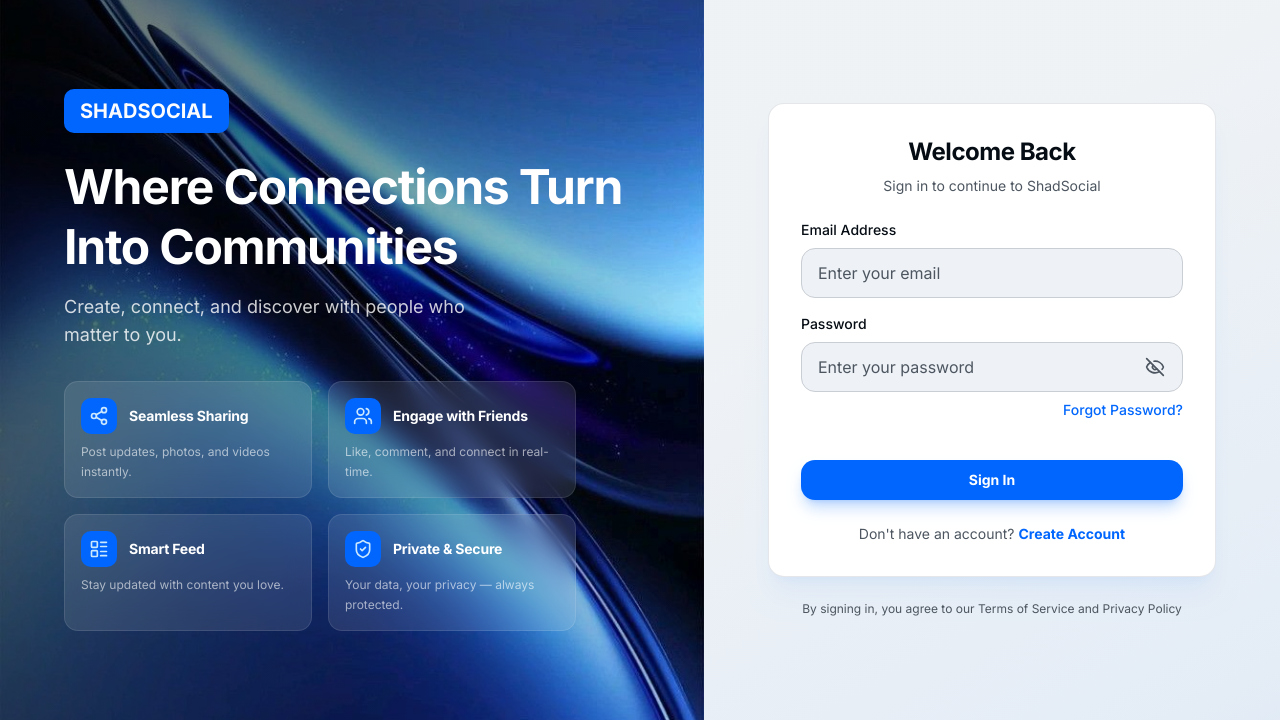
Test case: Login Flow › should toggle password visibility
# Type password
Type "password123" into the password field named "password" at coordinates (992, 367), box [801,342,1183,392]
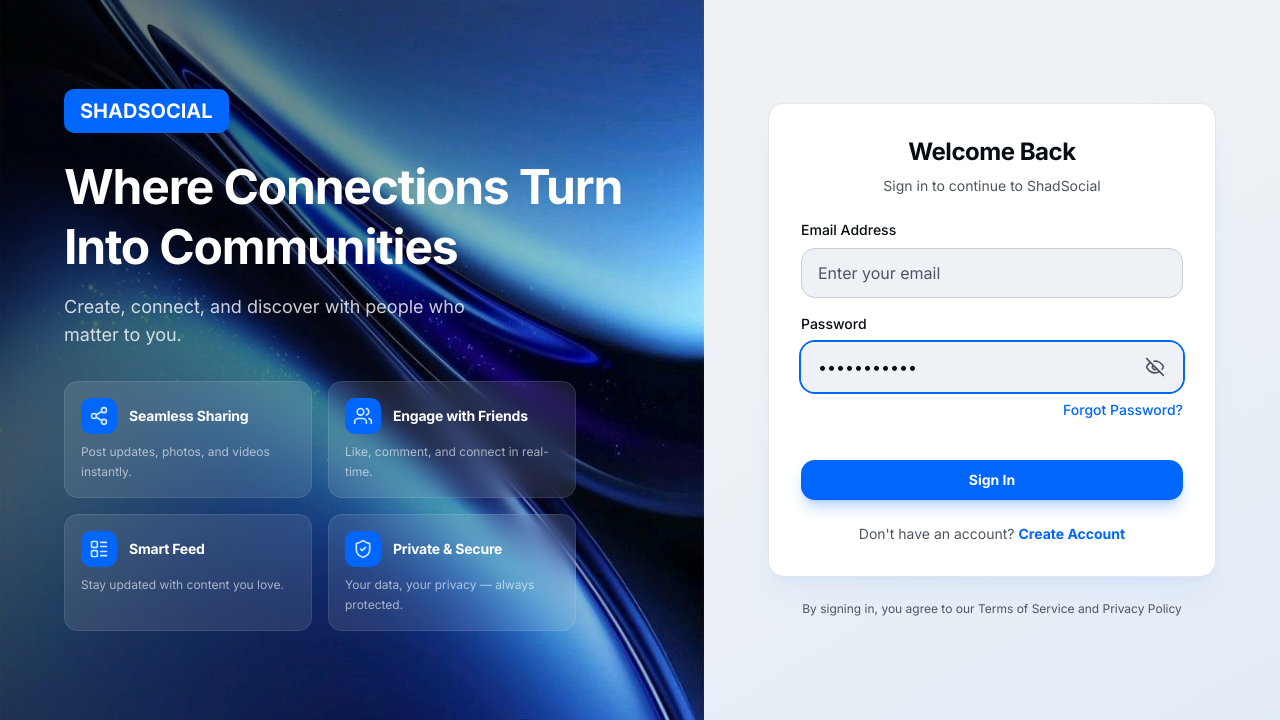
# Click eye icon to show password
Click the 1st button at coordinates (1155, 367), box [1139,351,1171,383]
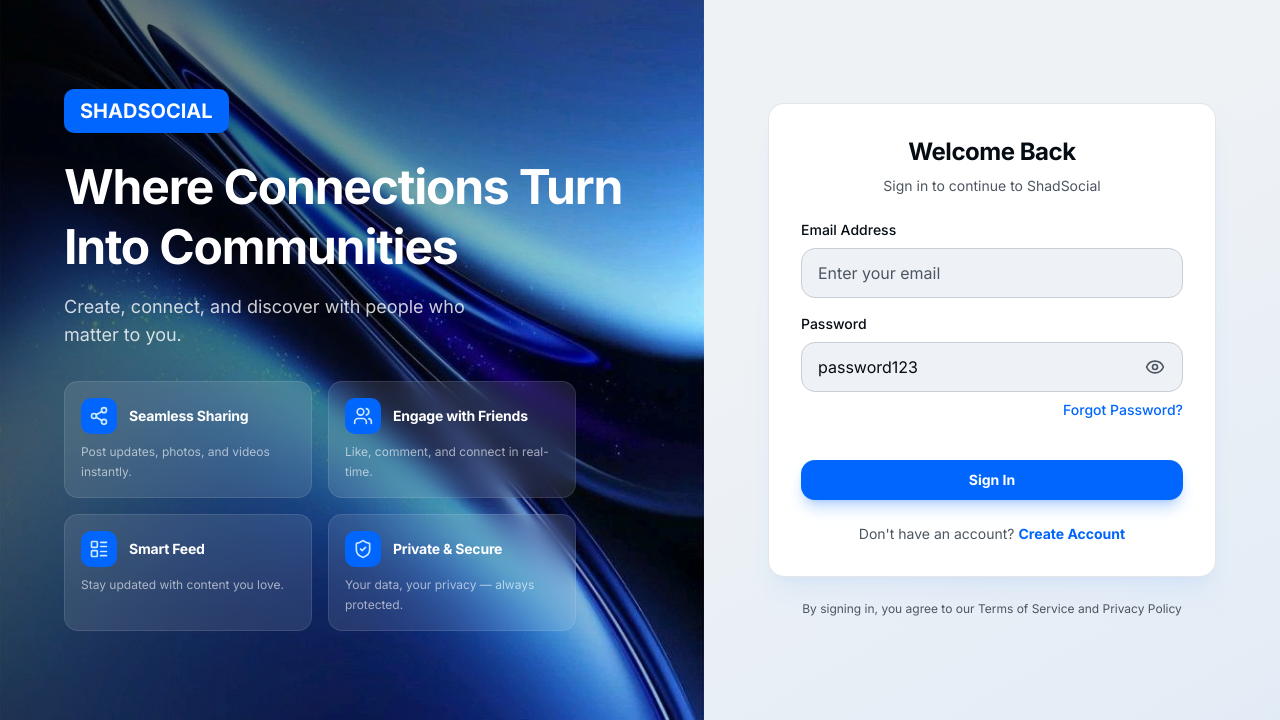
Expected: the field named "password" shows its text, [801,342,1183,392]
# Click again to hide
Click the 1st button at coordinates (1155, 367), box [1139,351,1171,383]
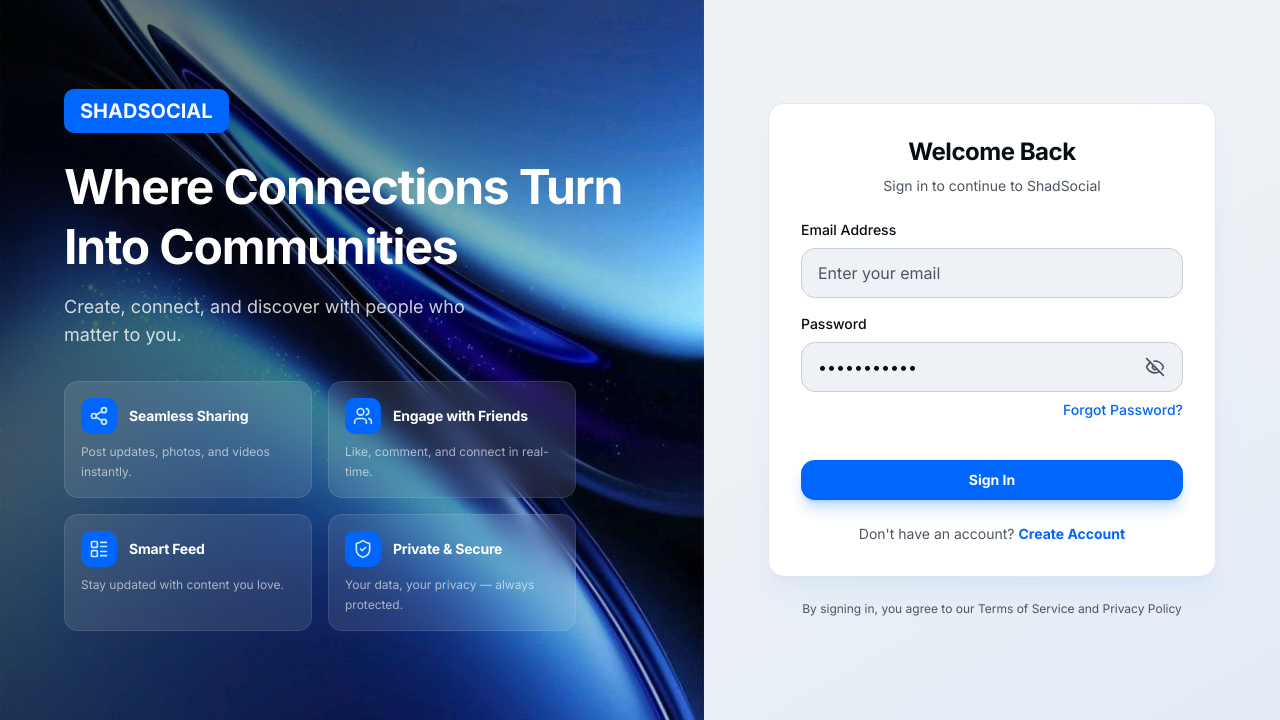
Expected: the password field named "password" hides its text, [801,342,1183,392]
